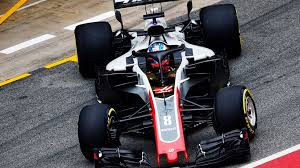f1_car: (70, 1, 261, 168)
